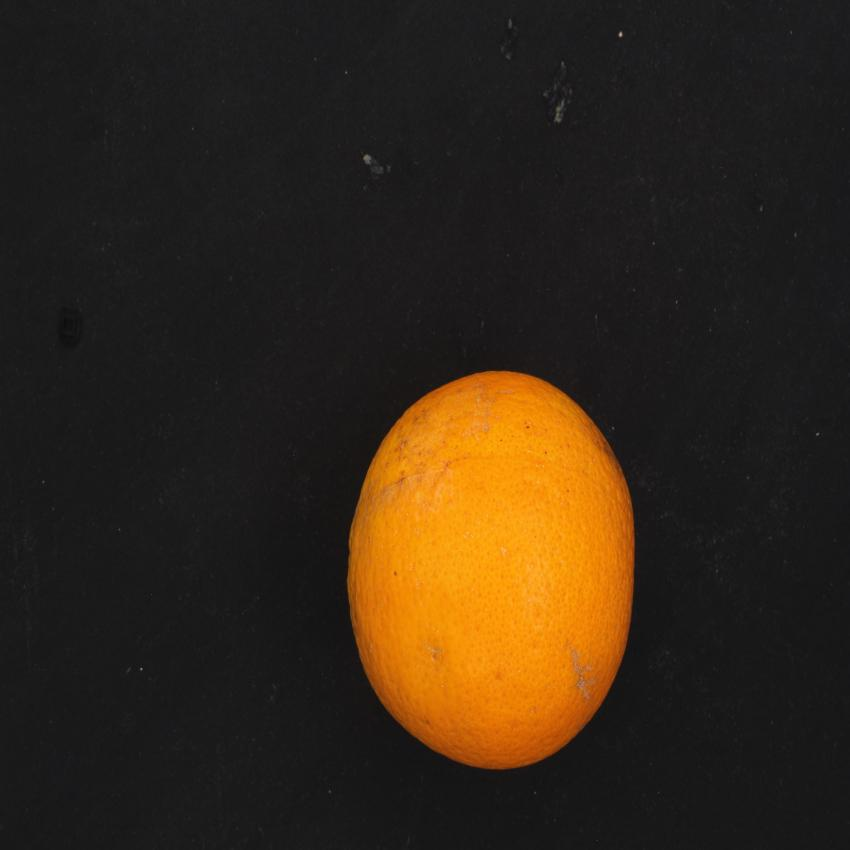Mal estado: (342, 366, 653, 780)
